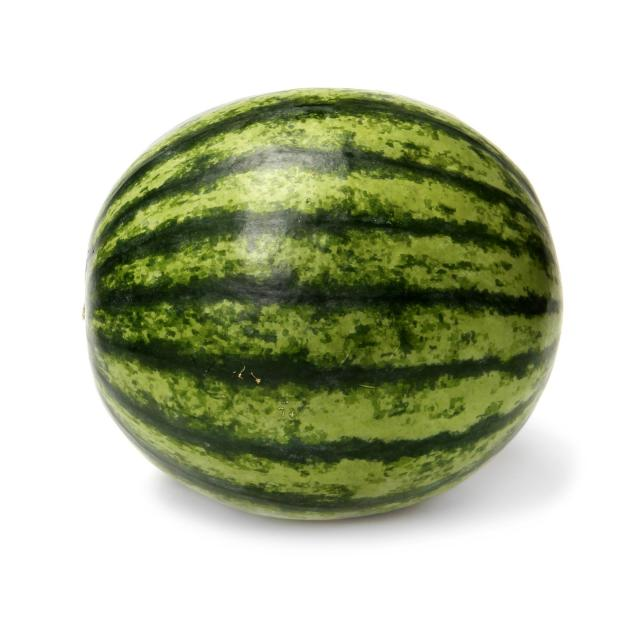watermelon: (80, 81, 573, 533)
